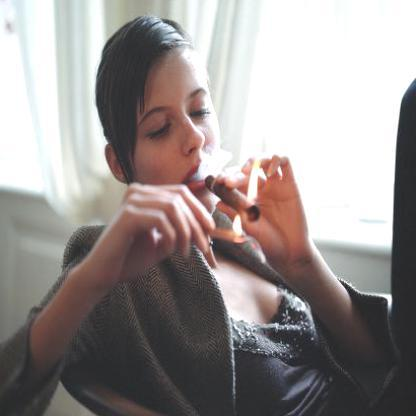cigarette: (206, 174, 262, 226)
person: (70, 11, 286, 415)
smoke: (197, 146, 233, 180)
